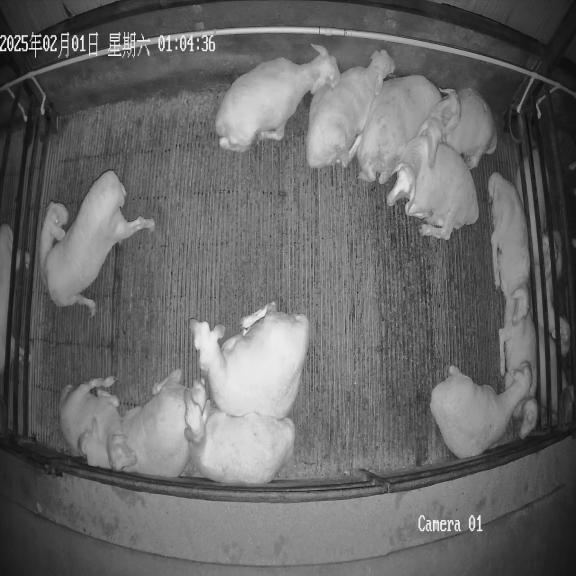lying: (190, 302, 310, 418), (215, 45, 340, 152), (184, 389, 295, 484), (306, 50, 395, 168), (349, 75, 443, 184), (430, 363, 533, 459), (387, 136, 479, 240), (121, 370, 189, 478), (59, 376, 136, 470), (488, 172, 530, 322), (499, 296, 537, 438), (433, 88, 497, 169), (79, 430, 110, 468)
stand: (39, 170, 154, 315)
